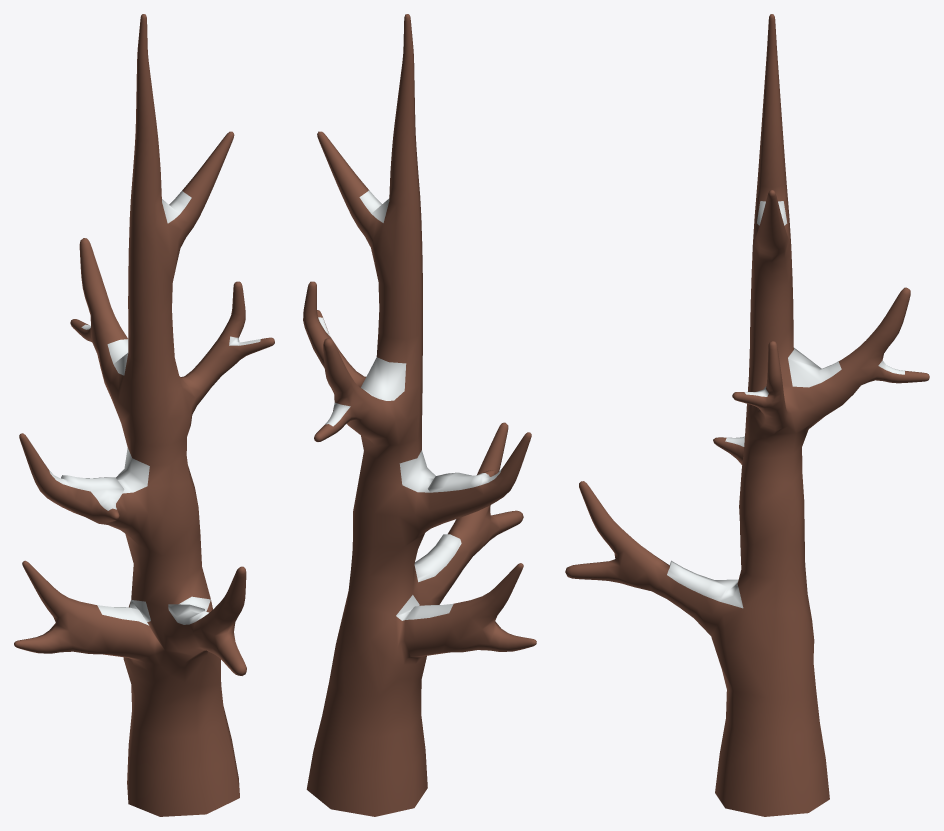
Rendered from Tree Big 1.fbx.
3 views of the same model, side by side, from view 1: azimuth 30°, elevation 25°; view 2: azimuth 150°, elevation 25°; view 3: azimuth 270°, elevation 25° (orthographic). The views are drawn at different scales.
Visible parts, largest first — view 1: Tree Big 1; view 2: Tree Big 1; view 3: Tree Big 1.
Part boxes in pixels (x1,y1,x2,y2): Tree Big 1: (14,14,274,816); Tree Big 1: (303,14,536,816); Tree Big 1: (565,14,929,816).
Size of the model in its own units: 1356 by 4235 by 1826.
